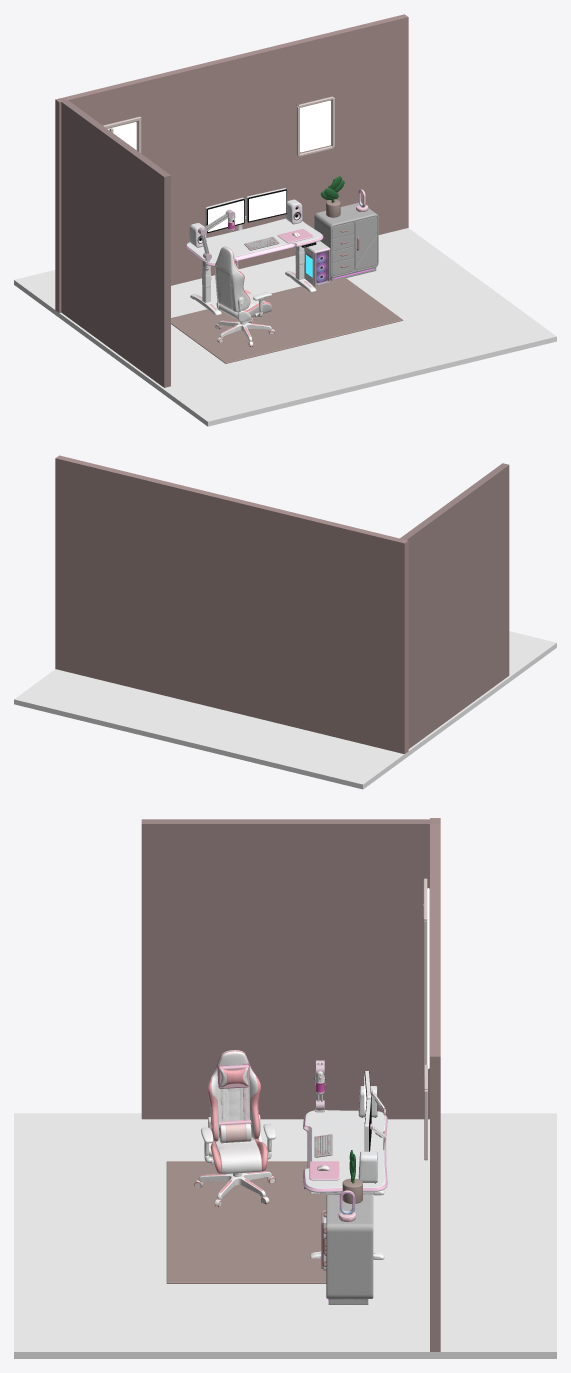
3 views of the same model, one above another, from view 1: azimuth 30°, elevation 25°; view 2: azimuth 150°, elevation 25°; view 3: azimuth 270°, elevation 25° (orthographic). The views are drawn at different scales.
Parts seen in each view (by area): view 1: Architecture_Back_Wall, Architecture_Floor, Architecture_Left_Wall, Decor_Rug, GEO_Desk_Moving_Top, GEO_Chair_Swivel_Upper, GEO_Cabinet_Body, Wall_Art_Art, GEO_Door_Right_Front, 04-pc-tower_mesh_01, Screen_Right, GEO_Desk_Fixed_Base (+2 smaller); view 2: Architecture_Back_Wall, Architecture_Left_Wall, Architecture_Floor; view 3: Architecture_Floor, Architecture_Left_Wall, Decor_Rug, Architecture_Back_Wall, GEO_Chair_Swivel_Upper, GEO_Cabinet_Body, GEO_Desk_Moving_Top, GEO_Chair_Static_Base, Window_Frame_V.001.
Part boxes in pixels (x1=…): Architecture_Back_Wall: x1=55, y1=14, x2=408, y2=312; Architecture_Floor: x1=14, y1=228, x2=556, y2=426; Architecture_Left_Wall: x1=58, y1=98, x2=170, y2=387; Decor_Rug: x1=171, y1=277, x2=403, y2=363; GEO_Desk_Moving_Top: x1=185, y1=218, x2=323, y2=274; GEO_Chair_Swivel_Upper: x1=215, y1=246, x2=272, y2=321; GEO_Cabinet_Body: x1=314, y1=202, x2=378, y2=280; Wall_Art_Art: x1=300, y1=100, x2=330, y2=152; GEO_Door_Right_Front: x1=355, y1=216, x2=377, y2=270; 04-pc-tower_mesh_01: x1=304, y1=241, x2=330, y2=286; Screen_Right: x1=249, y1=191, x2=286, y2=221; GEO_Desk_Fixed_Base: x1=190, y1=263, x2=316, y2=315; Architecture_Back_Wall: x1=55, y1=455, x2=408, y2=753; Architecture_Left_Wall: x1=396, y1=463, x2=509, y2=748; Architecture_Floor: x1=14, y1=631, x2=556, y2=789; Architecture_Floor: x1=14, y1=1113, x2=556, y2=1358; Architecture_Left_Wall: x1=141, y1=819, x2=440, y2=1119; Decor_Rug: x1=166, y1=1161, x2=334, y2=1283; Architecture_Back_Wall: x1=430, y1=818, x2=440, y2=1351; GEO_Chair_Swivel_Upper: x1=201, y1=1050, x2=275, y2=1173; GEO_Cabinet_Body: x1=326, y1=1194, x2=373, y2=1304; GEO_Desk_Moving_Top: x1=303, y1=1110, x2=387, y2=1194; GEO_Chair_Static_Base: x1=194, y1=1171, x2=275, y2=1206; Window_Frame_V.001: x1=423, y1=921, x2=427, y2=1075.
Bounding box in the file's own units: 5.2 × 3.07 × 5.
32 materials, 13 textured.
